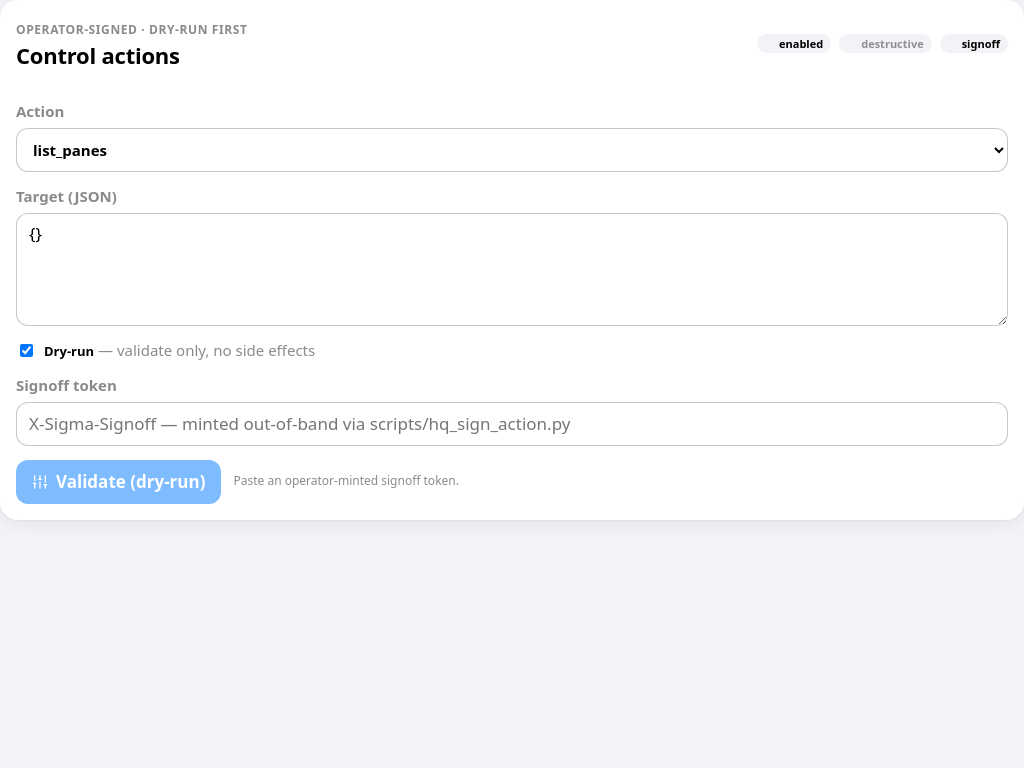
ActionsPanel › submits a dry-run with the signoff token via hqApi.submitAction
In the password field labelled "Signoff token": (512, 424) [16,402,1008,446], type "tok-123"
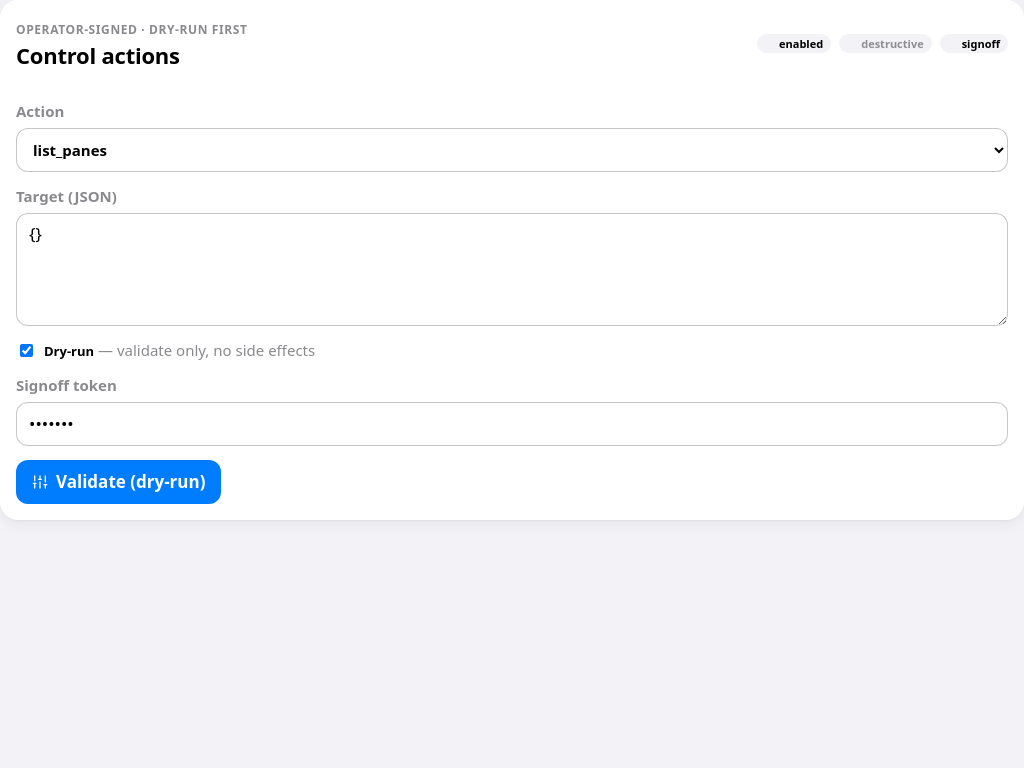
Click the button "Validate (dry-run)": (119, 482) [16,460,221,504]
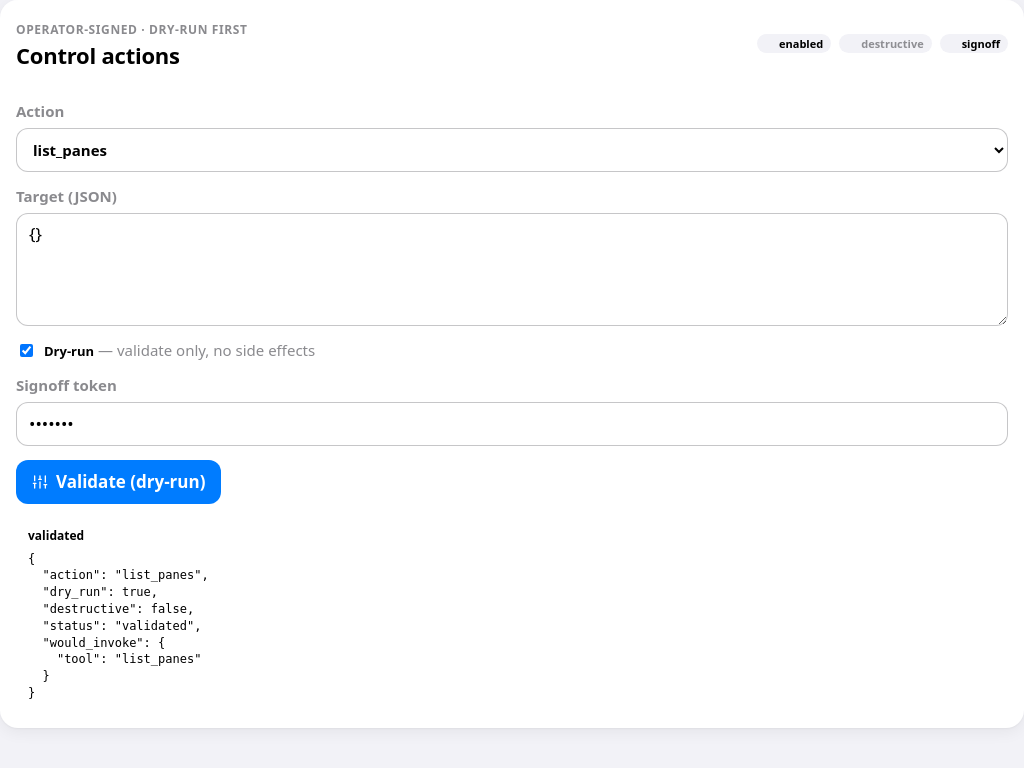
Expected: the text "validated" is shown, [28,527,84,544]
